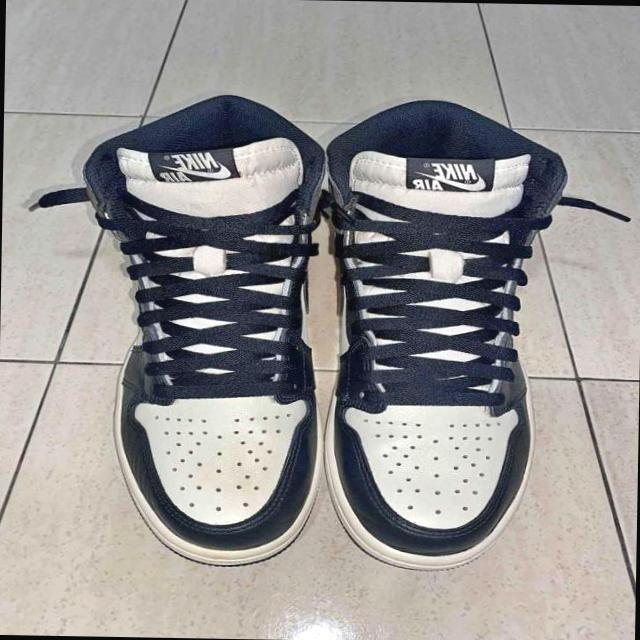nike_original_jordan: (74, 94, 336, 568), (314, 90, 570, 572)
